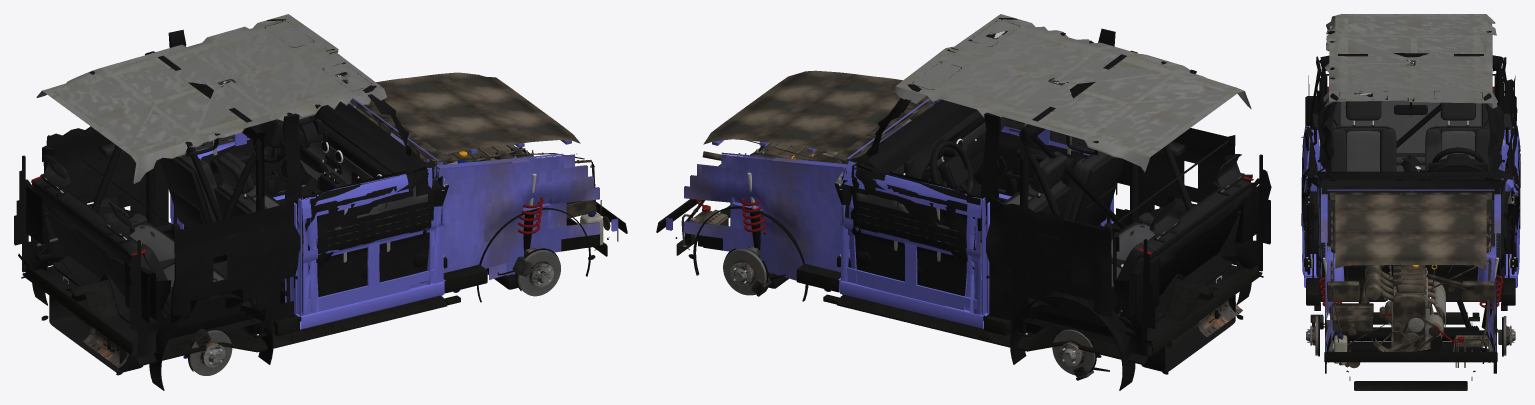
Rendered from jipe-capota_completo.glb.
3 renders of one model, left to right at view 1: azimuth 30°, elevation 25°; view 2: azimuth 150°, elevation 25°; view 3: azimuth 270°, elevation 25°, orthographic. The views are drawn at different scales.
Parts seen in each view (by area): view 1: interior_forro_teto, engine_paralama_interno_dir, interior_lateral_traseira_dir, door_card_fr, hood_manta, interior_banco_traseiro, door_card_fr_chapa, interior_painel, interior_lateral_traseira_esq, interior_portamalas_carpete, under_assoalho, interior_santantonio (+20 smaller); view 2: interior_forro_teto, engine_paralama_interno_esq, interior_lateral_traseira_esq, door_card_fl, hood_manta, interior_banco_traseiro, door_card_fl_chapa, interior_painel, interior_portamalas_carpete, interior_lateral_traseira_dir, under_assoalho, interior_santantonio (+22 smaller); view 3: interior_forro_teto, hood_manta, engine_motor, interior_painel, interior_banco_dianteiro_dir, interior_banco_traseiro, interior_acabamento_colunas, under_saias, interior_banco_dianteiro_esq, under_chassi, interior_santantonio, interior_carpete (+33 smaller).
Boxes of the visible parts, bbox=[...] form: interior_forro_teto: bbox=[36, 14, 386, 183]; engine_paralama_interno_dir: bbox=[436, 150, 618, 279]; interior_lateral_traseira_dir: bbox=[171, 197, 300, 332]; door_card_fr: bbox=[300, 160, 442, 297]; hood_manta: bbox=[371, 72, 580, 153]; interior_banco_traseiro: bbox=[31, 155, 226, 323]; door_card_fr_chapa: bbox=[297, 162, 448, 315]; interior_painel: bbox=[298, 99, 437, 184]; interior_lateral_traseira_esq: bbox=[46, 126, 168, 274]; interior_portamalas_carpete: bbox=[14, 146, 171, 357]; under_assoalho: bbox=[21, 276, 460, 365]; interior_santantonio: bbox=[92, 51, 266, 337]; interior_forro_teto: bbox=[895, 14, 1251, 172]; engine_paralama_interno_esq: bbox=[666, 148, 847, 280]; interior_lateral_traseira_esq: bbox=[986, 196, 1112, 331]; door_card_fl: bbox=[842, 164, 983, 296]; hood_manta: bbox=[703, 70, 910, 152]; interior_banco_traseiro: bbox=[1111, 154, 1253, 322]; door_card_fl_chapa: bbox=[835, 160, 986, 315]; interior_painel: bbox=[846, 99, 1005, 179]; interior_portamalas_carpete: bbox=[1103, 154, 1271, 356]; interior_lateral_traseira_dir: bbox=[1116, 128, 1235, 274]; under_assoalho: bbox=[823, 275, 1263, 365]; interior_santantonio: bbox=[1018, 50, 1192, 336]; interior_forro_teto: bbox=[1323, 14, 1497, 108]; hood_manta: bbox=[1335, 194, 1486, 270]; engine_motor: bbox=[1331, 265, 1445, 351]; interior_painel: bbox=[1317, 157, 1505, 262]; interior_banco_dianteiro_dir: bbox=[1330, 101, 1396, 171]; interior_banco_traseiro: bbox=[1315, 86, 1494, 171]; interior_acabamento_colunas: bbox=[1307, 56, 1516, 179]; under_saias: bbox=[1306, 215, 1520, 362]; interior_banco_dianteiro_esq: bbox=[1425, 102, 1490, 171]; under_chassi: bbox=[1349, 312, 1479, 390]; interior_santantonio: bbox=[1317, 53, 1504, 147]; interior_carpete: bbox=[1317, 155, 1504, 280].
Size of what is drawn, in the model's own units: 3.55 by 1.64 by 1.63.
55 materials, 55 textured.
